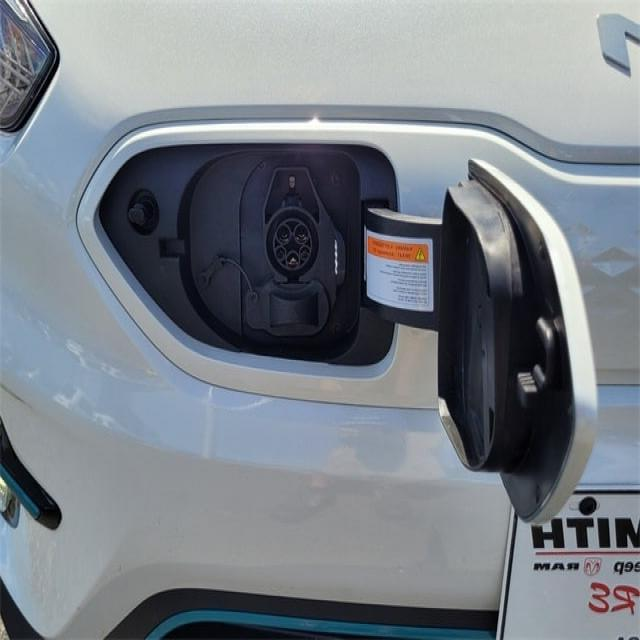CCS1: (234, 196, 340, 379)
